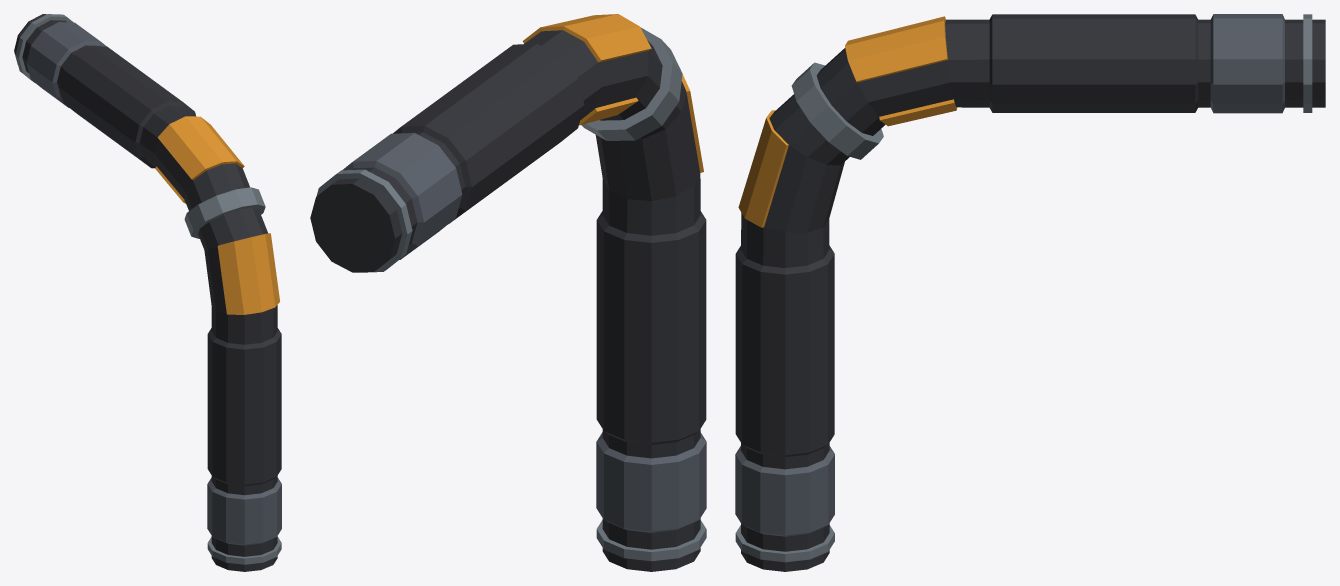
The model's file is SM_Electric_rotary_pipe.glb.
3 renders of one model, left to right at view 1: azimuth 30°, elevation 25°; view 2: azimuth 150°, elevation 25°; view 3: azimuth 270°, elevation 25°, orthographic. The views are drawn at different scales.
Parts seen in each view (by area): view 1: SM_Electric_rotary_pipe; view 2: SM_Electric_rotary_pipe; view 3: SM_Electric_rotary_pipe.
Boxes of the visible parts, x1,y1,x2,y2 form: SM_Electric_rotary_pipe: [14, 14, 281, 571]; SM_Electric_rotary_pipe: [310, 14, 706, 571]; SM_Electric_rotary_pipe: [735, 14, 1325, 571].
Bounding box in the file's own units: 0.3661 × 2 × 2.
1 material, 1 textured.
